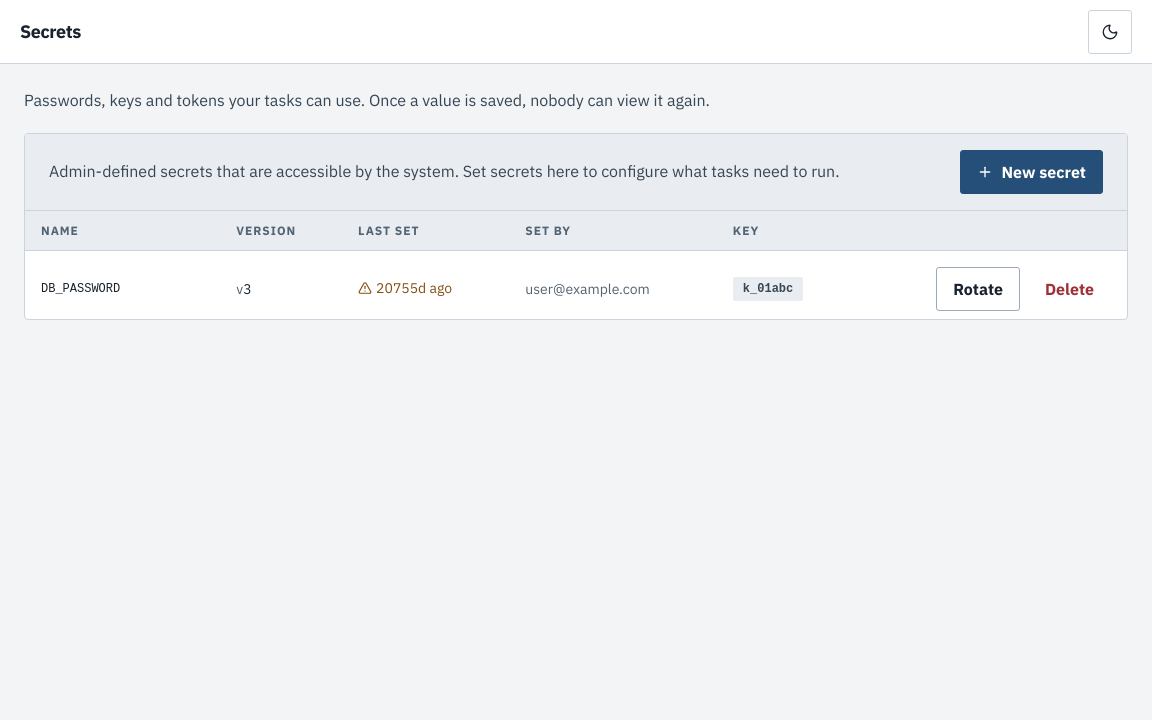
Scenario: SecretsPage › does not prefill a value when rotating an existing secret
The image size is (1152, 720).
What coordinates should you click on to do the following:
click the button with aria-label "Rotate DB_PASSWORD"
I would click on:
 (978, 289)
Its box is [936,267,1020,311].
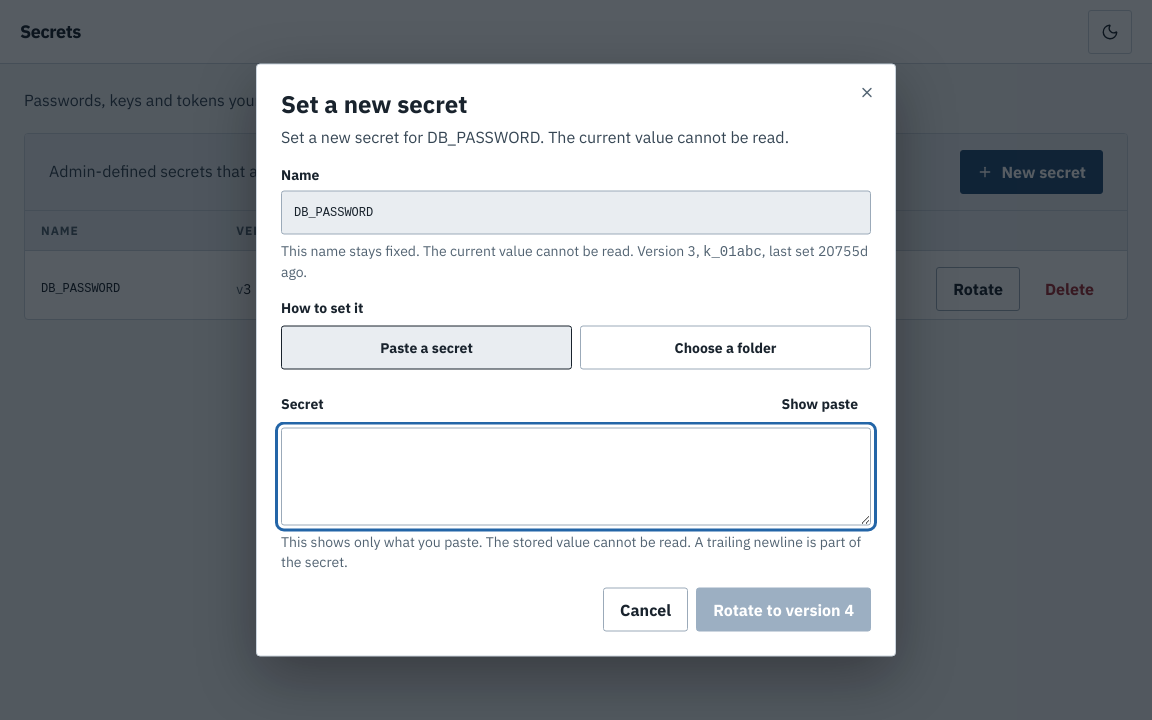
Expected: the text box labelled "Secret" is empty, [281,428,871,526]
Expected: the field labelled "Name" holds "DB_PASSWORD", [281,190,871,234]
